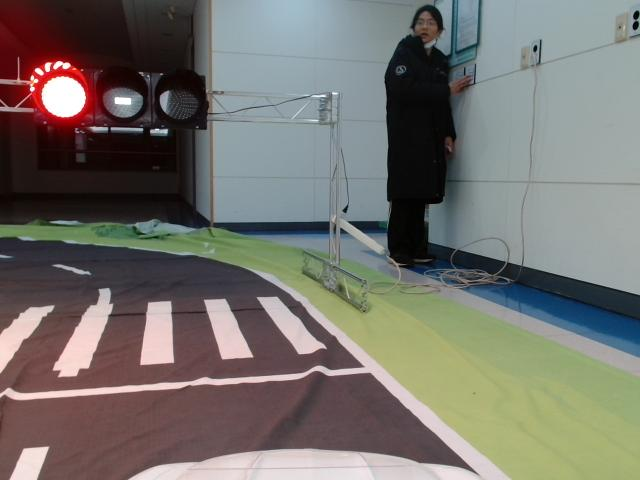crosswalk: (2, 295, 326, 369)
traffic light-red-: (30, 61, 206, 129)
